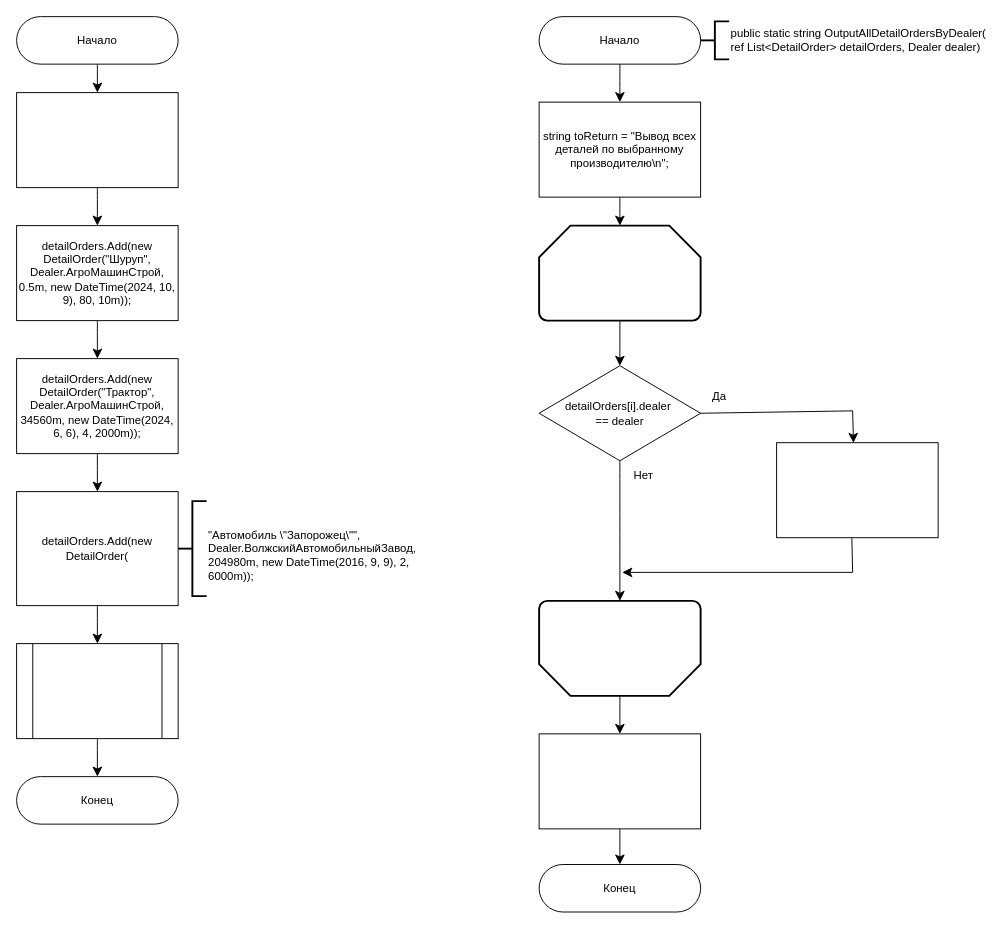
Image size: 1003x929. Some labels were removed from this diagram. The box of each missing label's shape, as (x1, y1, x2, y2) in pixels:
List<DetailOrder> detailOrders = new List<DetailOrder>();: (16, 92, 178, 188)
MainMenu(ref detailOrders);: (16, 643, 178, 739)
return toReturn: (538, 733, 701, 829)
toReturn += $"{detailOrders[i]. GetAlldata()}\n\n";: (776, 442, 938, 538)
Цикл 6 i++: (538, 599, 701, 696)
Цикл 6 int i = 0; i < detailOrders.Count;: (538, 224, 701, 321)
